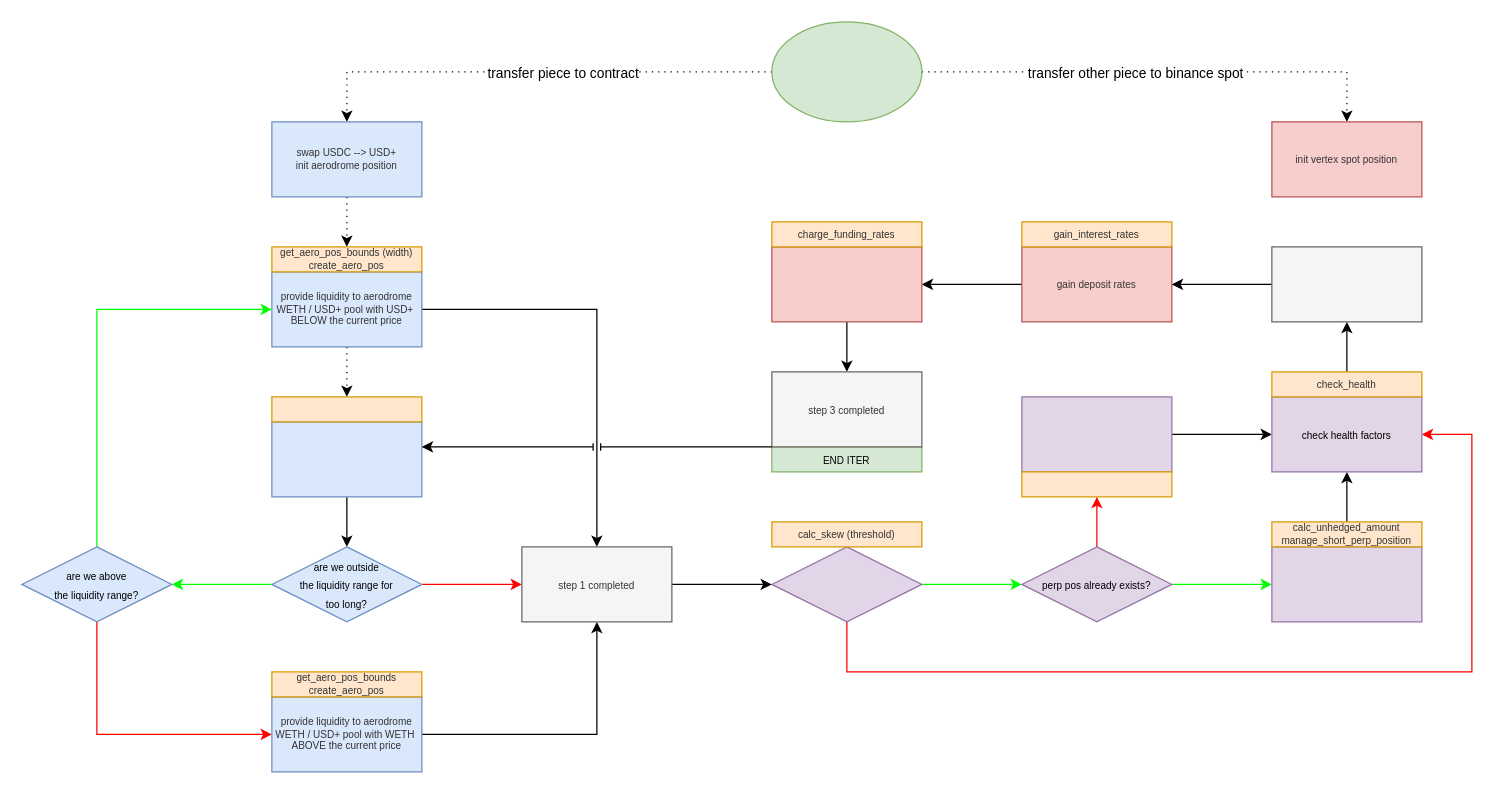
Image size: 1504x794. Some labels were removed from this diagram. Here are the shapes that lost their labels. From the top down, the box of each, then its label:
(771, 21, 922, 122): START STRAT we have USDC
(771, 246, 922, 322): gain funding rates
(1271, 246, 1422, 322): step 2 completed
(271, 396, 422, 422): reinvest_fees
(1021, 396, 1172, 472): open short perp position
(271, 421, 422, 497): collect and reinvest aero fees (if possible)
(1021, 471, 1172, 497): calc_unhedged_amount open_short_perp_position
(771, 546, 922, 622): abs(skew) > threshold?
(1271, 546, 1422, 622): increase / decrease current amount of perp position
